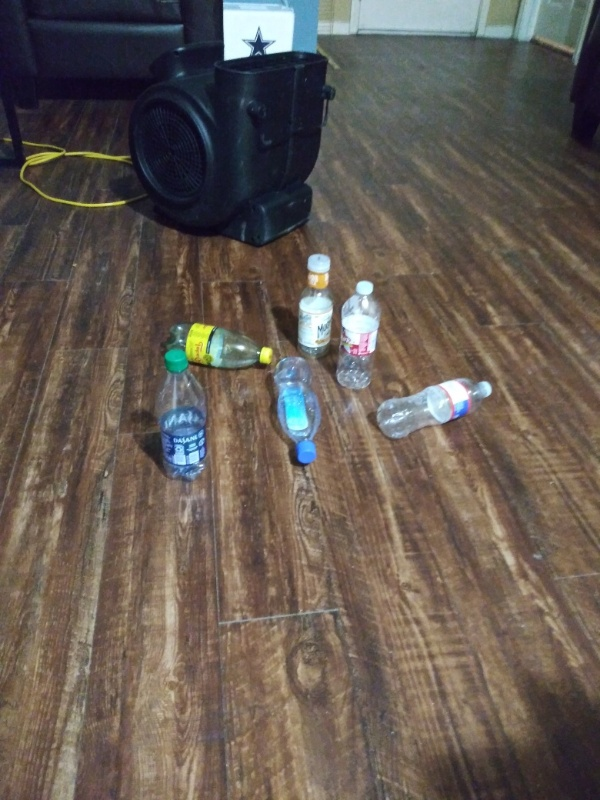bottle: (373, 374, 495, 443), (153, 347, 215, 482), (270, 354, 325, 468), (160, 321, 277, 374), (332, 279, 383, 397), (289, 251, 342, 363)
